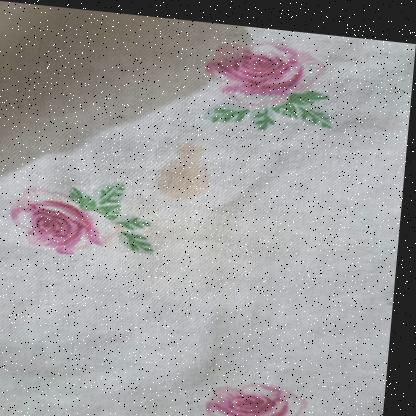spot: (144, 130, 215, 199)
